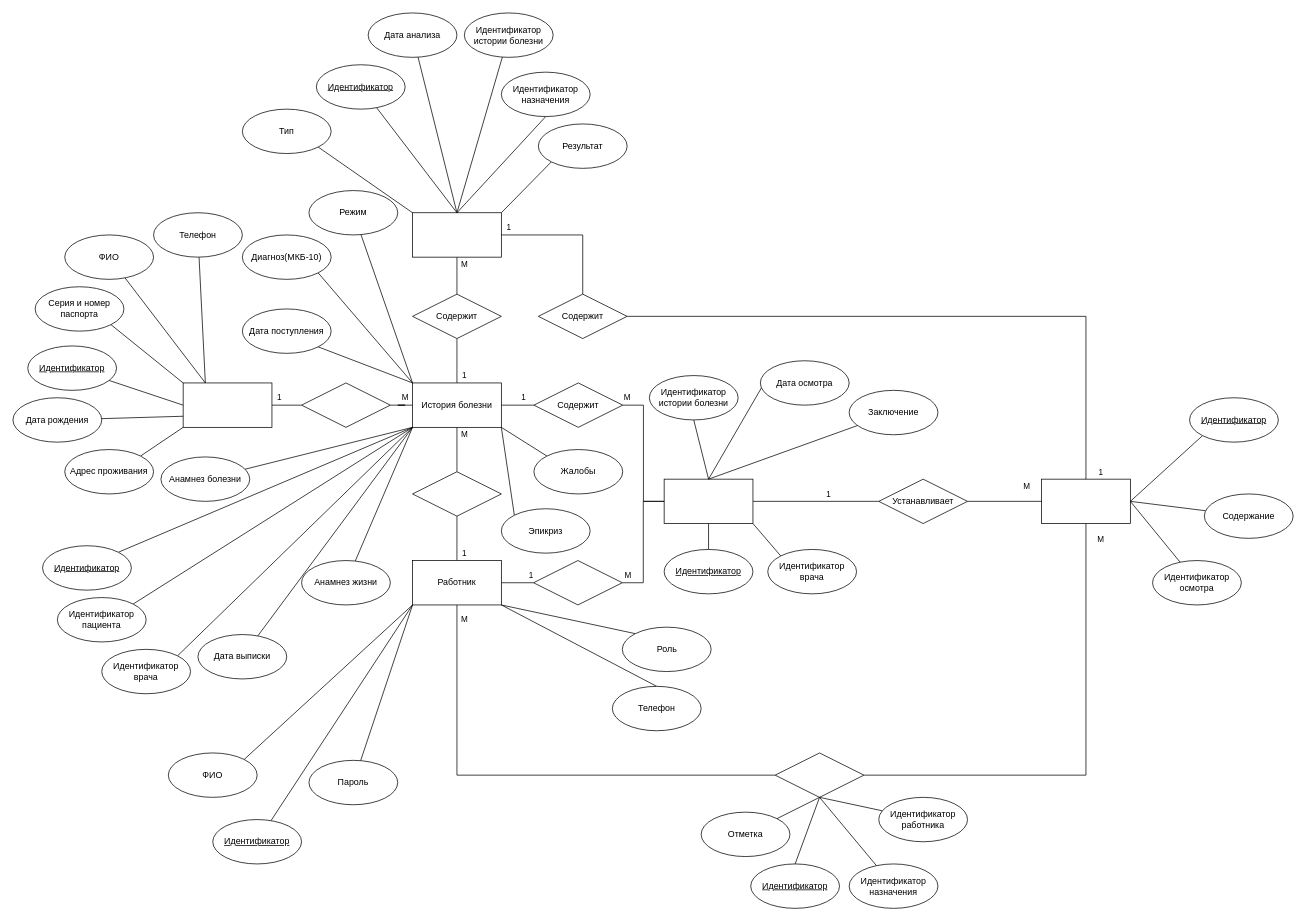
The diagram is 1306 pixels wide and 921 high, and some of its shapes have lost their labels. The shapes that lost their labels are listed below. From the top down, each one's centre as x and y in pixels, then its label:
At (x=456, y=234): "Анализ".
At (x=227, y=404): "Пациент".
At (x=345, y=404): "Принадлежит".
At (x=456, y=493): "Ведёт".
At (x=708, y=501): "Осмотр".
At (x=1085, y=501): "Назначение".
At (x=577, y=582): "Проводит".
At (x=819, y=774): "Выполняет".
